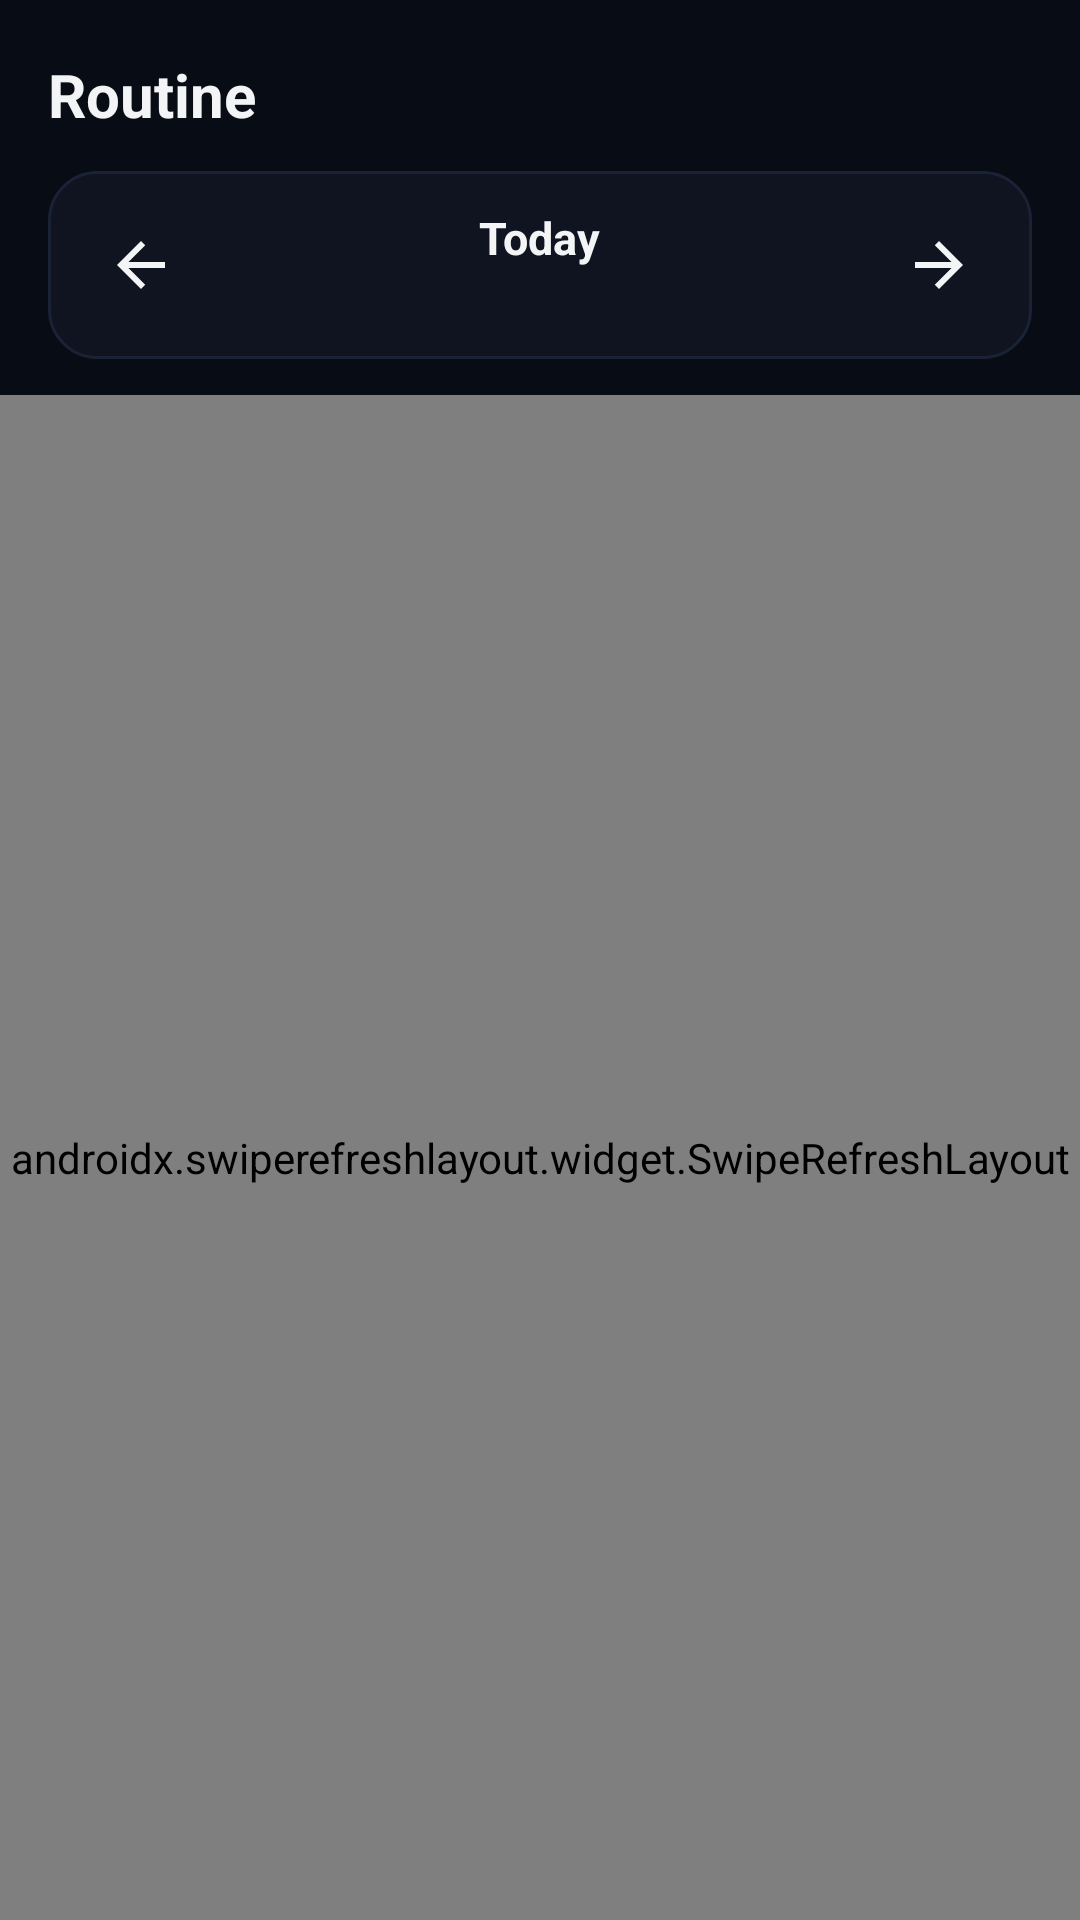

Named icons in this screenshot (1080*1920) and their centers, (x=x, y=y):
Previous day: (x=141, y=265)
